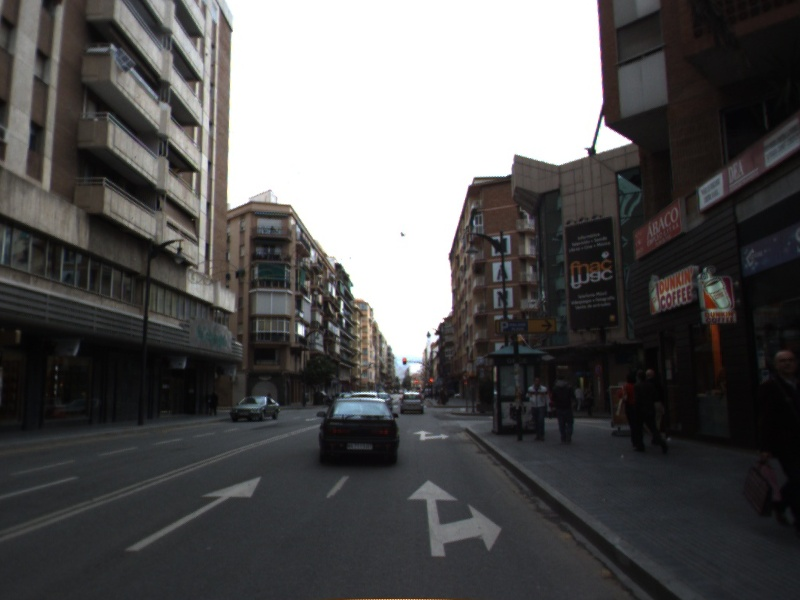STRAIGHT: (122, 474, 263, 553)
STRAIGHT_RIGHT: (405, 478, 504, 559), (411, 428, 452, 442)
